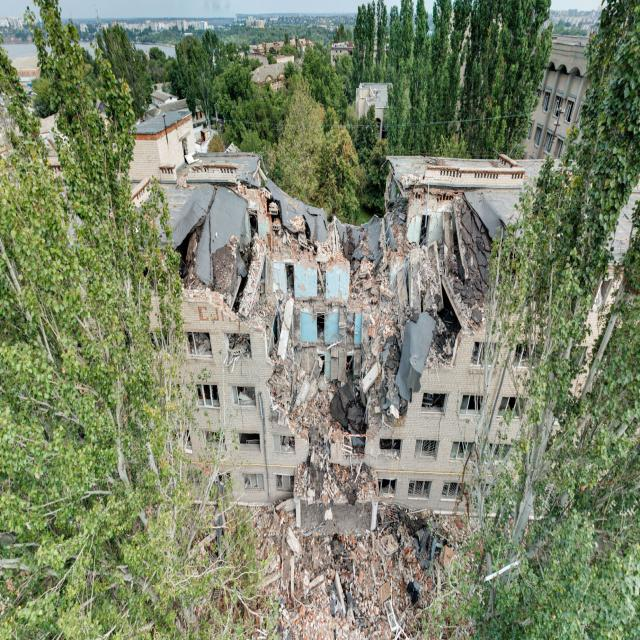broken_window: (446, 437, 472, 469), (376, 435, 404, 463), (406, 478, 433, 505), (412, 438, 439, 465), (422, 391, 448, 418), (235, 430, 261, 456), (456, 390, 476, 421), (238, 470, 264, 492), (272, 435, 294, 456), (272, 473, 292, 495), (375, 478, 397, 498)
building: (181, 293, 481, 519), (129, 117, 197, 180)
damage: (213, 299, 458, 511), (184, 328, 211, 360), (225, 329, 249, 360), (195, 381, 219, 409), (231, 384, 253, 406)
damaged_roof: (167, 152, 497, 332)
other: (468, 27, 640, 640), (44, 503, 610, 640)
roof: (129, 150, 568, 332), (133, 115, 190, 138)
